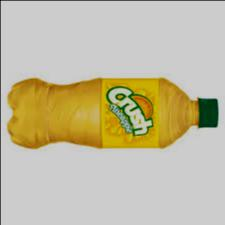Plastic: (5, 78, 221, 150)
